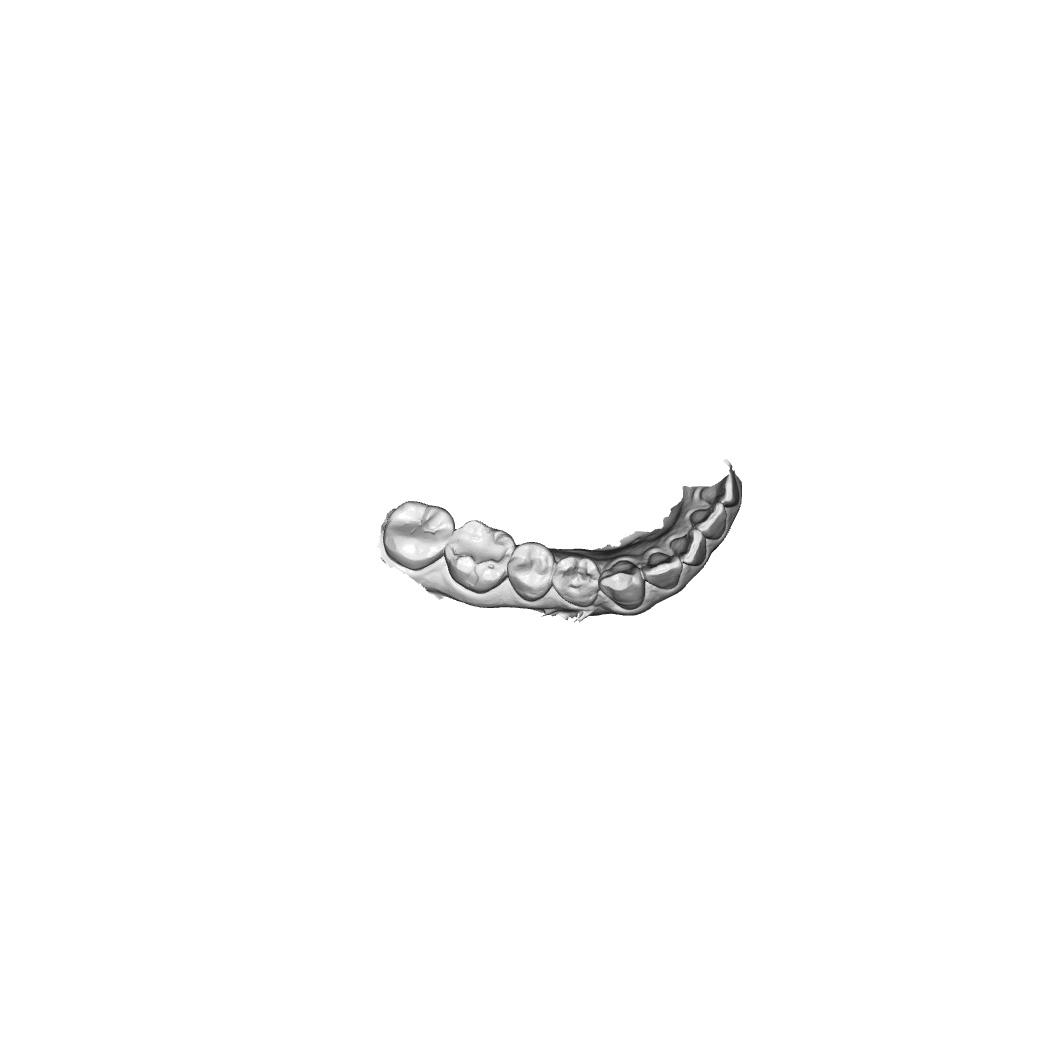canine: (598, 560, 646, 611)
incisor: (641, 551, 683, 590), (688, 501, 727, 540), (699, 472, 741, 508), (670, 528, 707, 567)
molar: (443, 518, 516, 595), (381, 499, 456, 572)
premolar: (507, 539, 555, 603), (551, 555, 602, 607)
